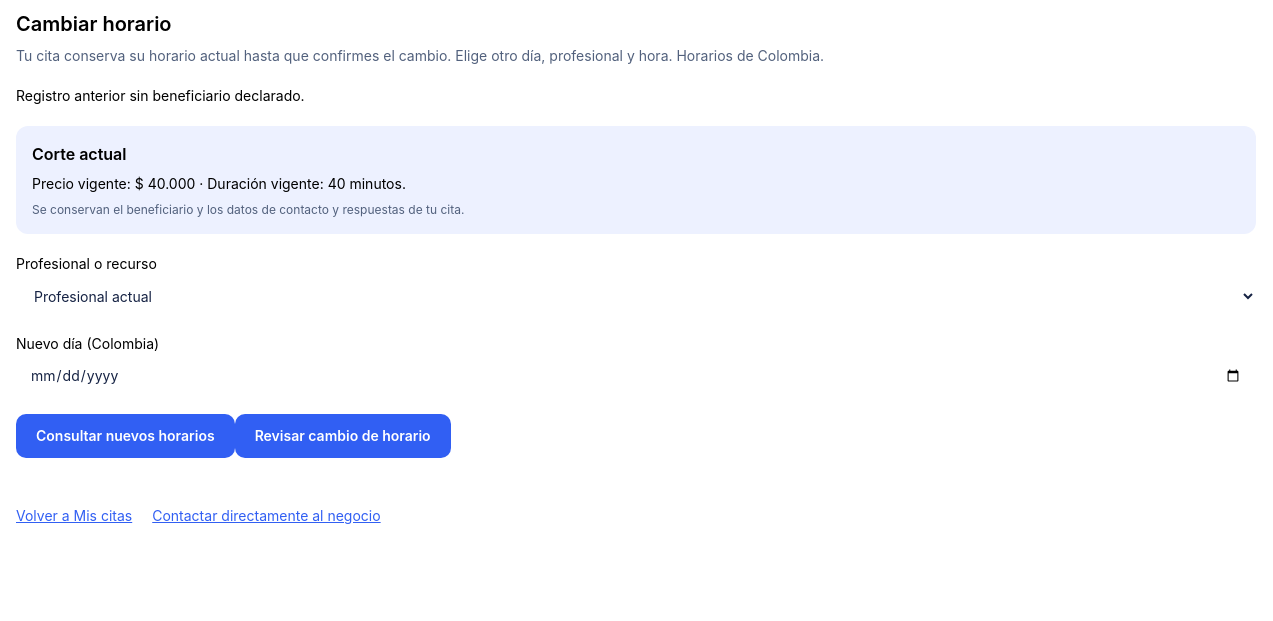
Test: reports a successful empty daily search honestly and requires a manual next date
Type "2030-01-03" into the date field labelled "Nuevo día (Colombia)". click: (636, 376)
box: [16, 354, 1256, 398]
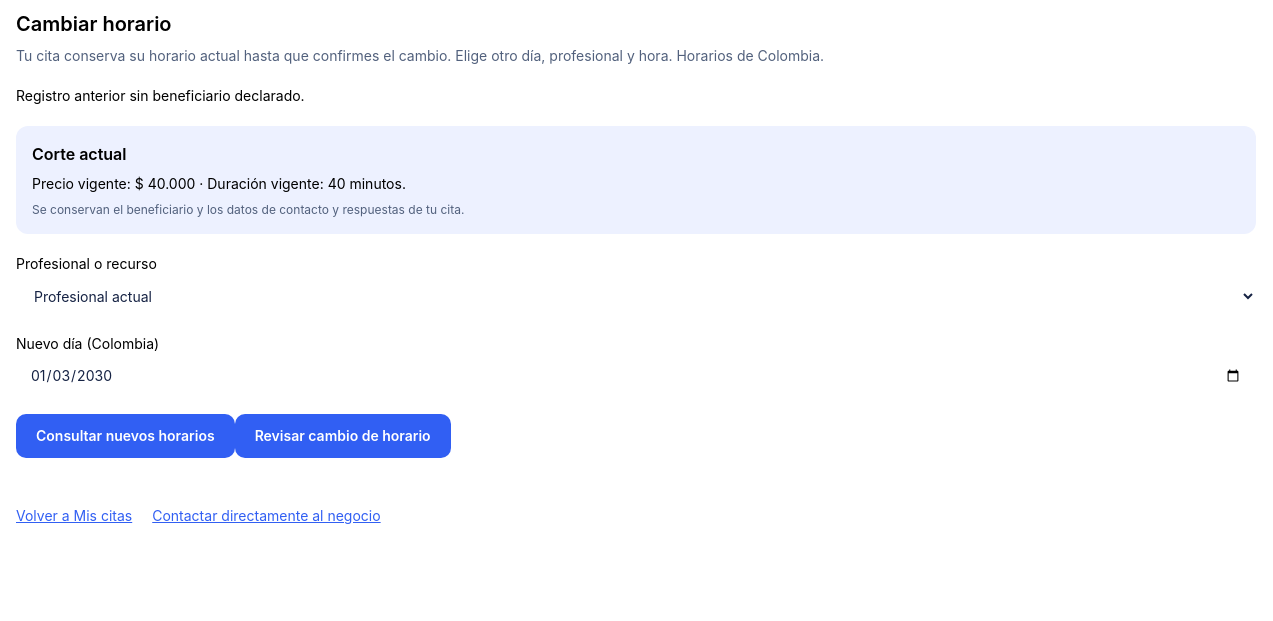
Click the button "Consultar nuevos horarios". click: (125, 436)
box: [16, 414, 235, 458]
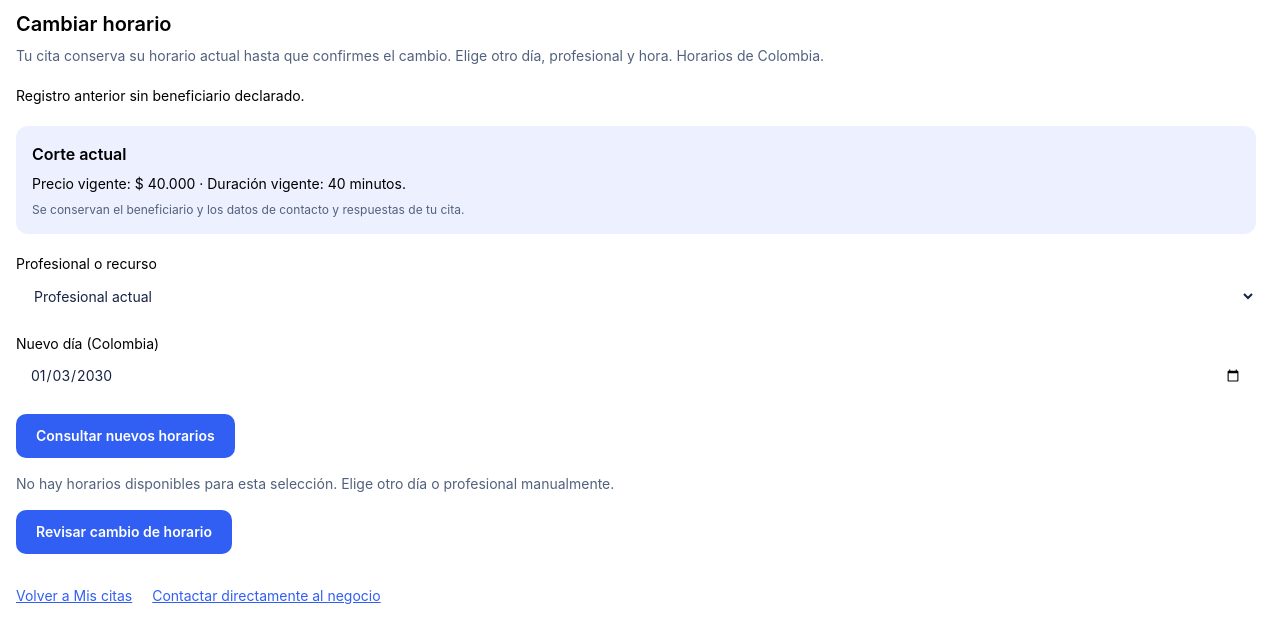
Check: the text "No hay horarios disponibles" is shown, box [16, 475, 614, 492]
